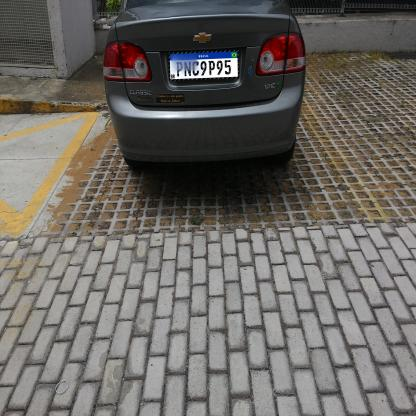PlacaM: (169, 50, 239, 81)
